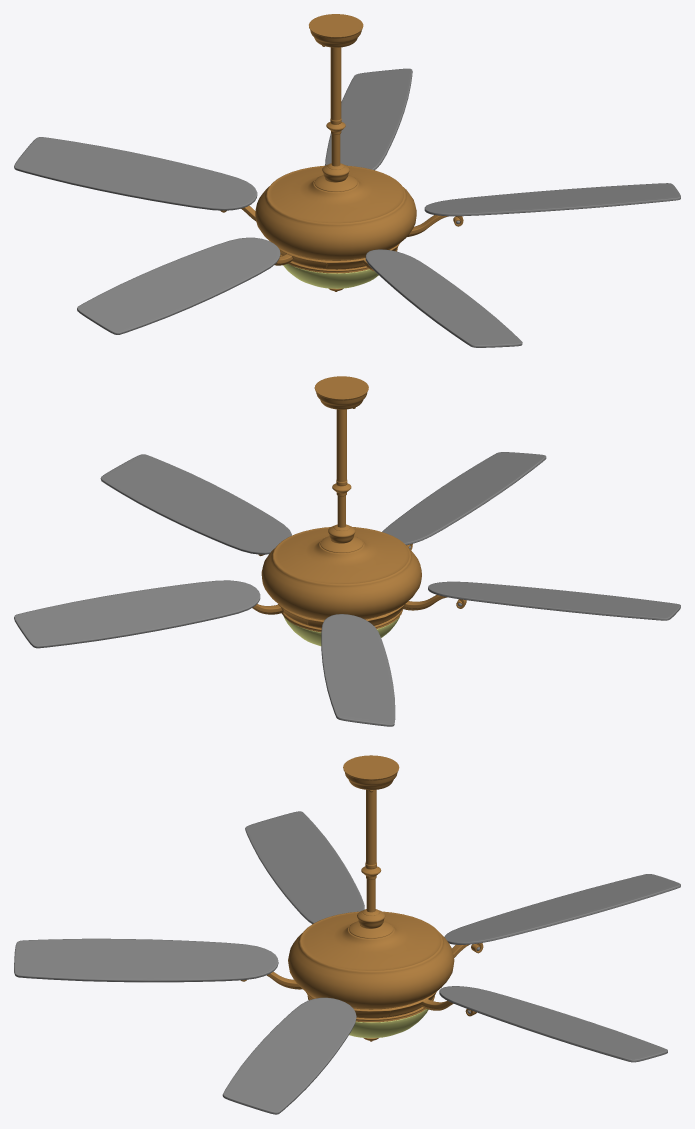
Rendered from Lamp_01.fbx.
The picture shows the model from 3 angles, top to bottom: view 1: azimuth 30°, elevation 25°; view 2: azimuth 150°, elevation 25°; view 3: azimuth 270°, elevation 25°; orthographic projection. The views are drawn at different scales.
Parts seen in each view (by area): view 1: Lamp_01_vint, Lamp_01; view 2: Lamp_01_vint, Lamp_01; view 3: Lamp_01_vint, Lamp_01.
Part boxes in pixels (left/top/right/bottom): Lamp_01_vint: left=14, top=68, right=680, bottom=347; Lamp_01: left=255, top=14, right=416, bottom=291; Lamp_01_vint: left=14, top=452, right=680, bottom=726; Lamp_01: left=261, top=376, right=421, bottom=646; Lamp_01_vint: left=14, top=811, right=680, bottom=1114; Lamp_01: left=288, top=755, right=454, bottom=1041.
Bounding box in the file's own units: 163 × 71.02 × 157.
